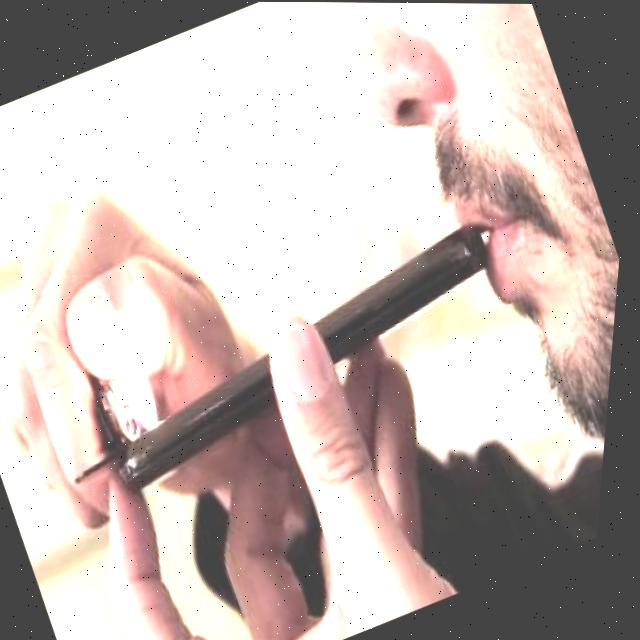Fire: (102, 332, 186, 443)
